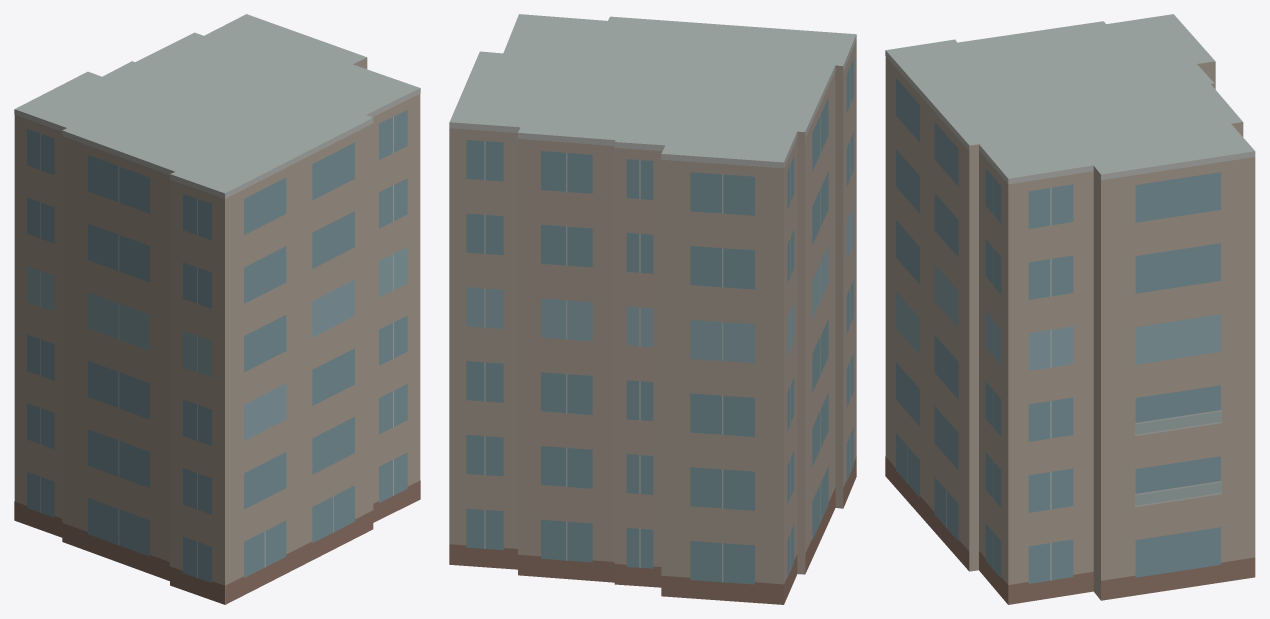
Rendered from survey-upis-32525714.glb.
3 views of the same model, side by side, from view 1: azimuth 30°, elevation 25°; view 2: azimuth 150°, elevation 25°; view 3: azimuth 270°, elevation 25° (orthographic). The views are drawn at different scales.
Visible parts, largest first — view 1: survey-upis-32525714.tmp; view 2: survey-upis-32525714.tmp; view 3: survey-upis-32525714.tmp.
Boxes of the visible parts, <box> form: survey-upis-32525714.tmp: <box>14,14,420,604</box>; survey-upis-32525714.tmp: <box>449,14,856,604</box>; survey-upis-32525714.tmp: <box>885,14,1255,604</box>.
Size of the model in its own units: 15.19 by 18.3 by 14.4.
